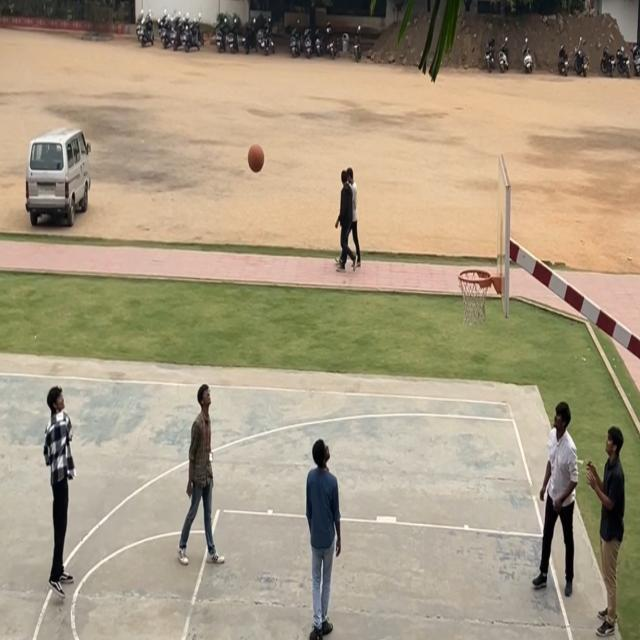basketball: (246, 142, 266, 181)
hoop: (457, 266, 492, 332)
